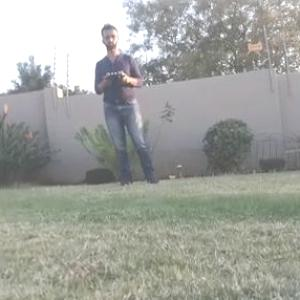follow: (91, 18, 166, 192)
